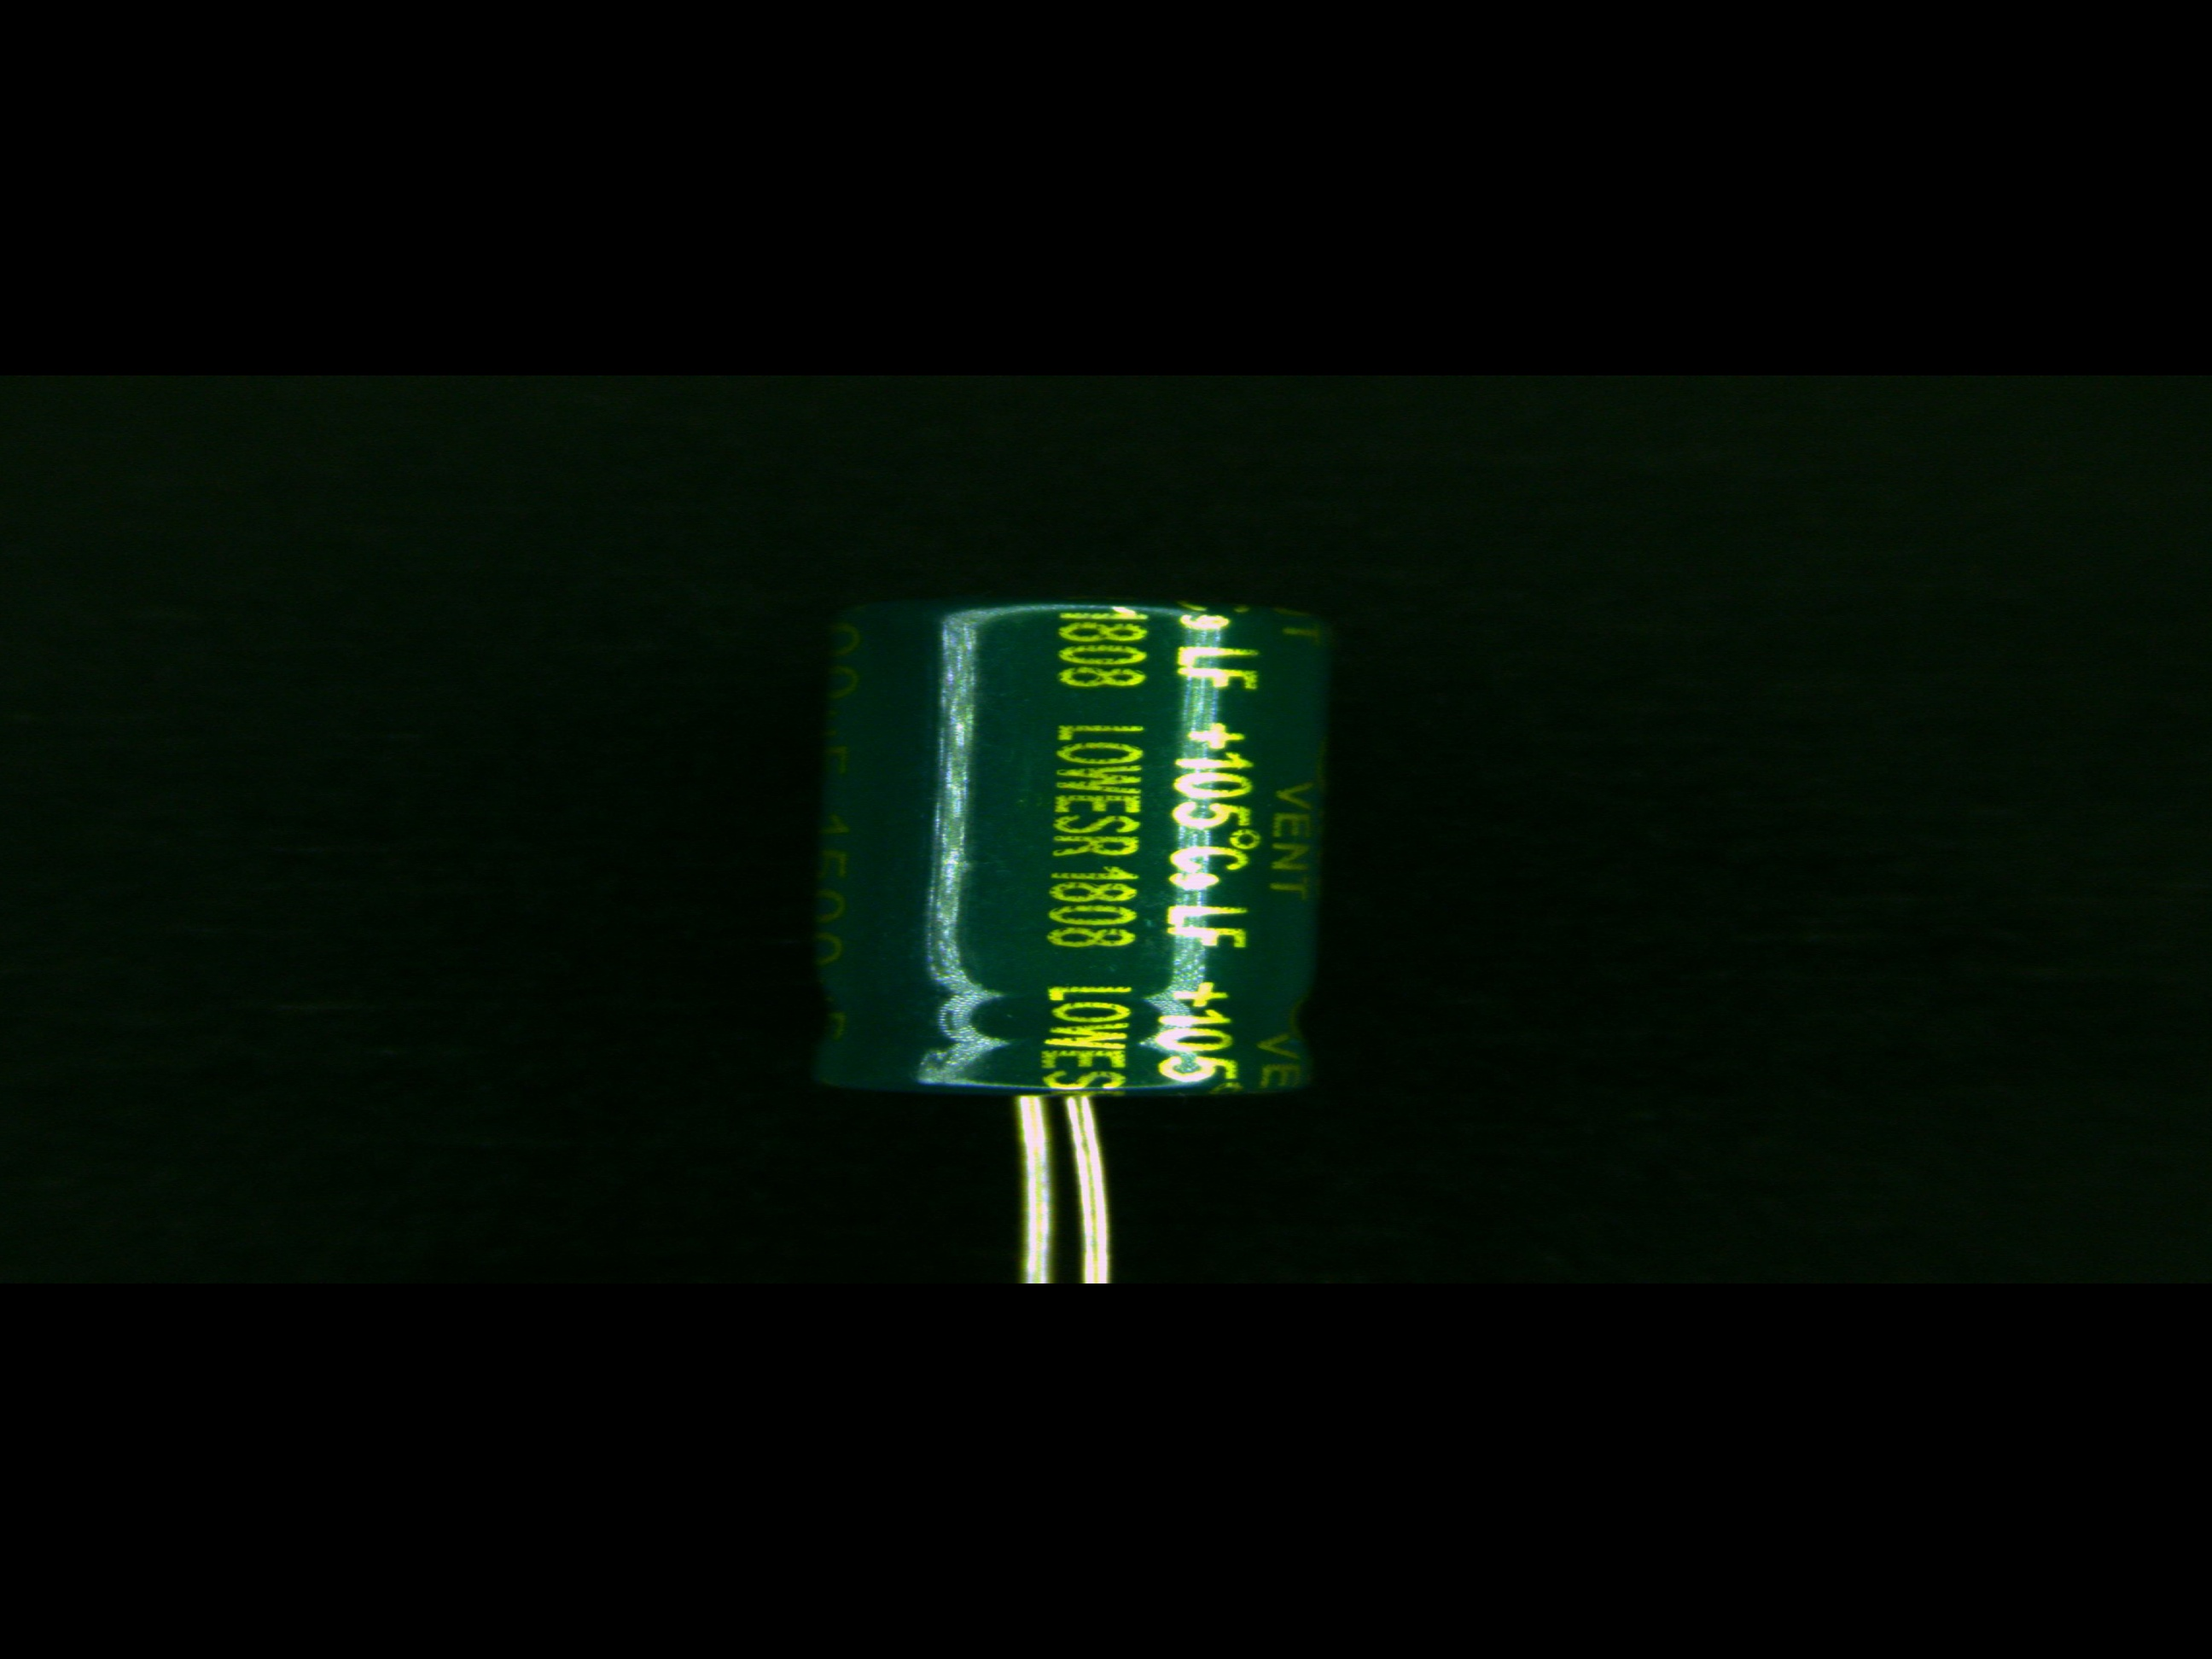c1: (799, 601, 1339, 1121)
